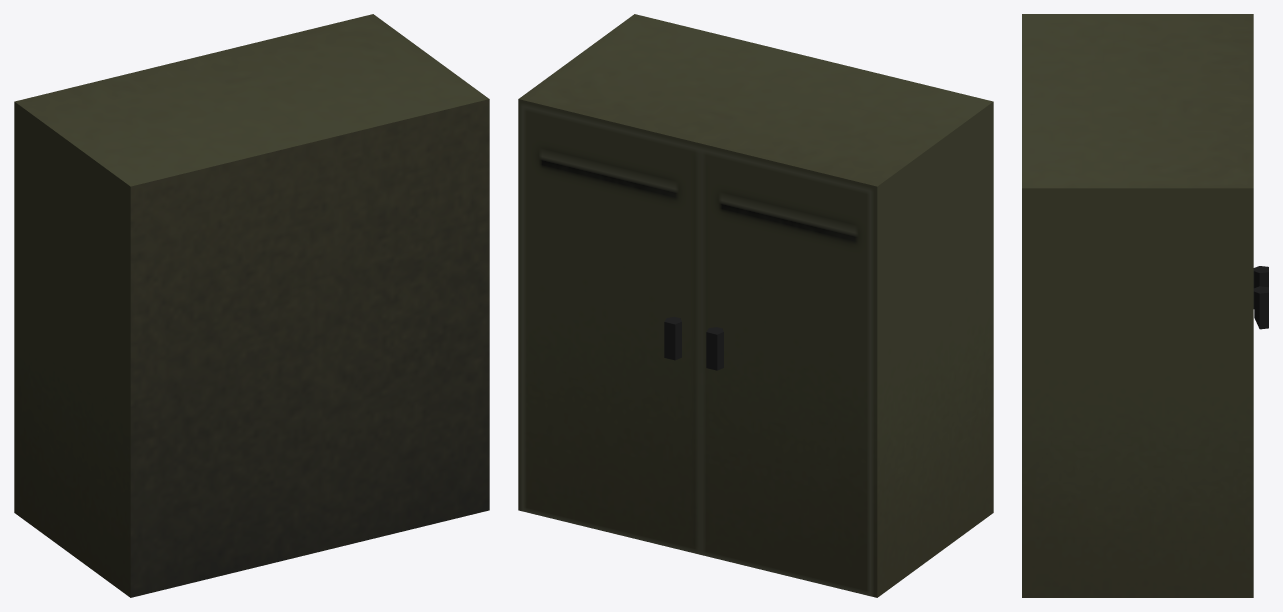
The model's file is Cabinet1.fbx.
3 renders of one model, left to right at view 1: azimuth 30°, elevation 25°; view 2: azimuth 150°, elevation 25°; view 3: azimuth 270°, elevation 25°, orthographic.
Parts seen in each view (by area): view 1: Cabinet1; view 2: Cabinet1; view 3: Cabinet1.
Boxes of the visible parts, bbox=[...] form: Cabinet1: bbox=[14, 14, 489, 597]; Cabinet1: bbox=[518, 14, 993, 597]; Cabinet1: bbox=[1022, 14, 1268, 597].
Size of the model in its own units: 113 by 124 by 67.57.
